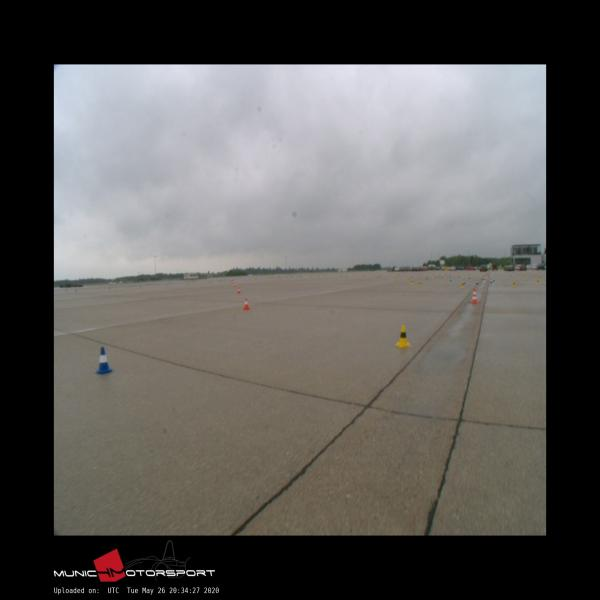blue_cone: (95, 347, 113, 374)
large_orange_cone: (471, 289, 478, 303)
orange_cone: (242, 299, 250, 310), (237, 287, 241, 294)
yellow_cone: (396, 325, 411, 348)
